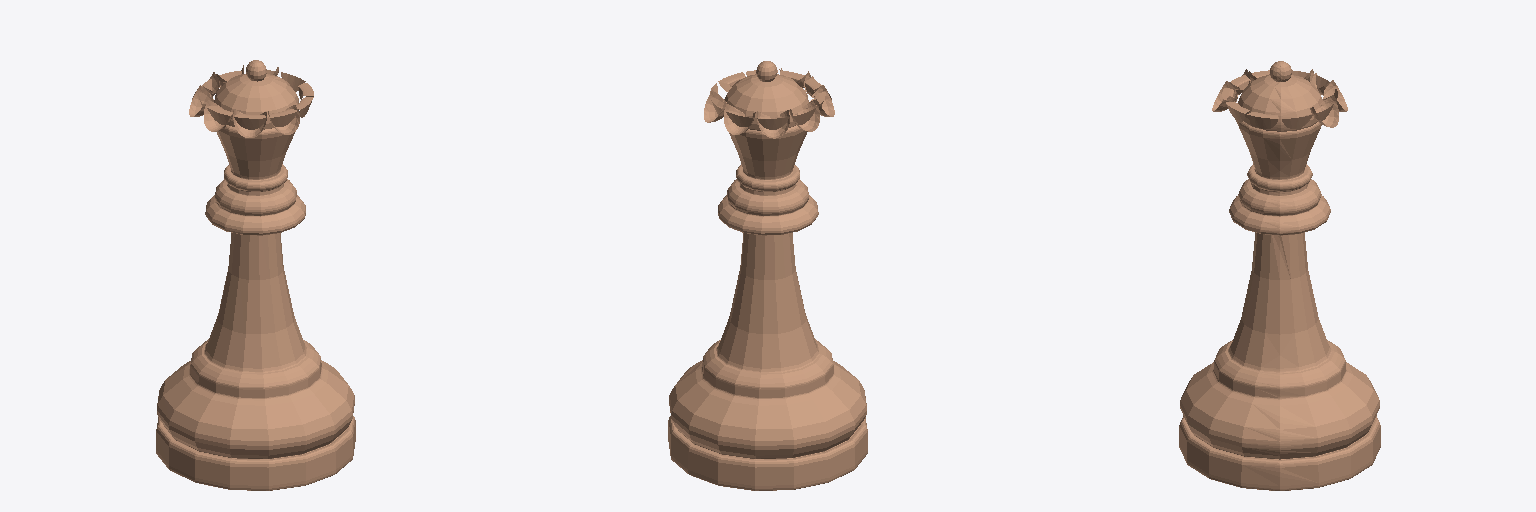
File: reyB_ficha.obj
3 views of the same model, side by side, from view 1: azimuth 30°, elevation 25°; view 2: azimuth 150°, elevation 25°; view 3: azimuth 270°, elevation 25° (orthographic).
Visible parts, largest first — view 1: revolvedSurface2, nurbsSphere1, queen_top_nurbsBooleanSurface3_1, queen_top_nurbsBooleanSurface3_3; view 2: revolvedSurface2, nurbsSphere1, queen_top_nurbsBooleanSurface3_1, queen_top_nurbsBooleanSurface3_3; view 3: revolvedSurface2, nurbsSphere1, queen_top_nurbsBooleanSurface3_1, queen_top_nurbsBooleanSurface3_3.
Part boxes in pixels (x1,y1,x2,y2): revolvedSurface2: (156,125,355,490); nurbsSphere1: (214,74,298,129); queen_top_nurbsBooleanSurface3_1: (198,70,313,129); queen_top_nurbsBooleanSurface3_3: (207,83,313,118); revolvedSurface2: (668,125,867,490); nurbsSphere1: (724,74,808,130); queen_top_nurbsBooleanSurface3_1: (710,72,823,129); queen_top_nurbsBooleanSurface3_3: (718,70,825,105); revolvedSurface2: (1179,120,1380,490); nurbsSphere1: (1238,74,1322,131); queen_top_nurbsBooleanSurface3_1: (1223,70,1337,128); queen_top_nurbsBooleanSurface3_3: (1222,70,1278,118).
Size of the model in its own units: 3.87 by 8.22 by 3.86.